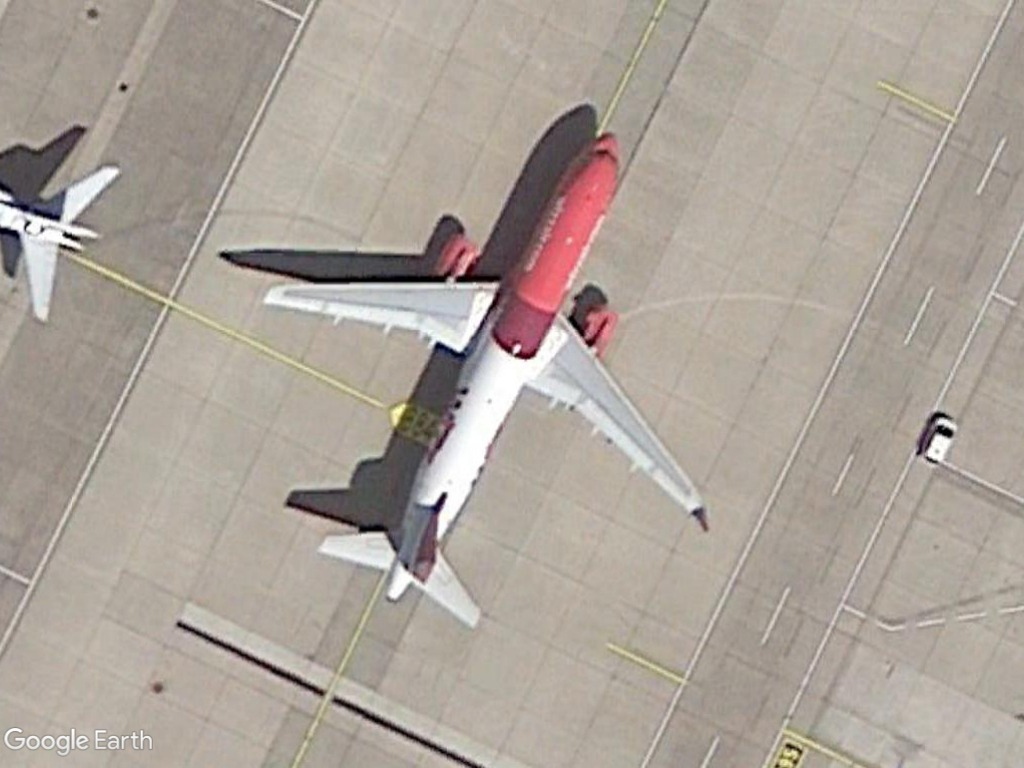airliner: (254, 126, 714, 632)
van: (914, 412, 960, 469)
